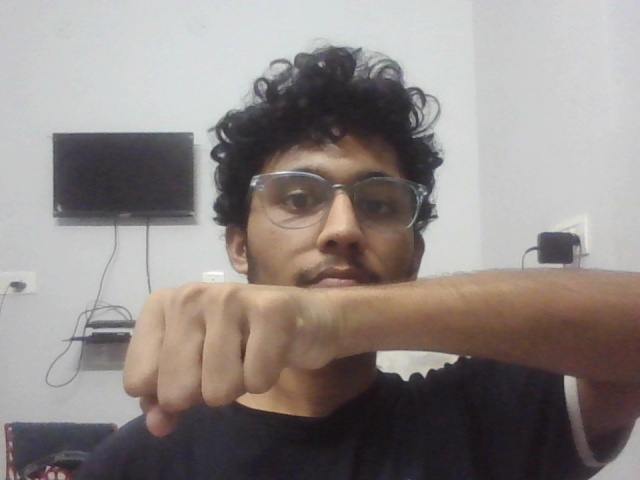Yes: (120, 274, 340, 444)
